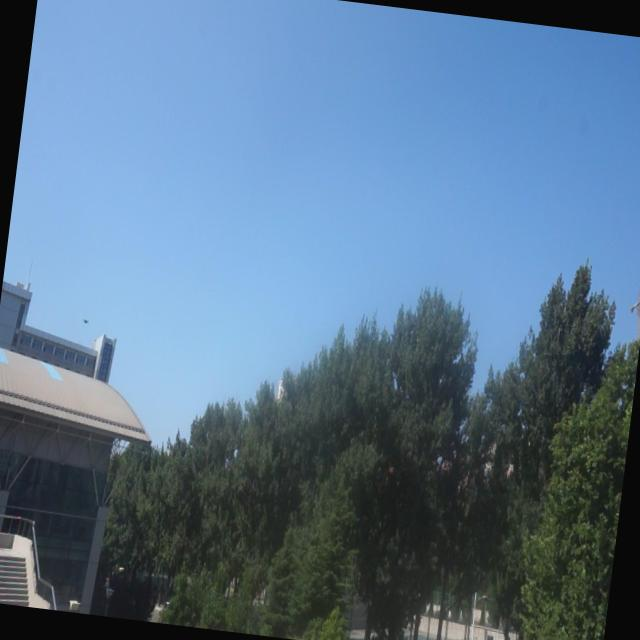drone: (80, 314, 90, 326)
